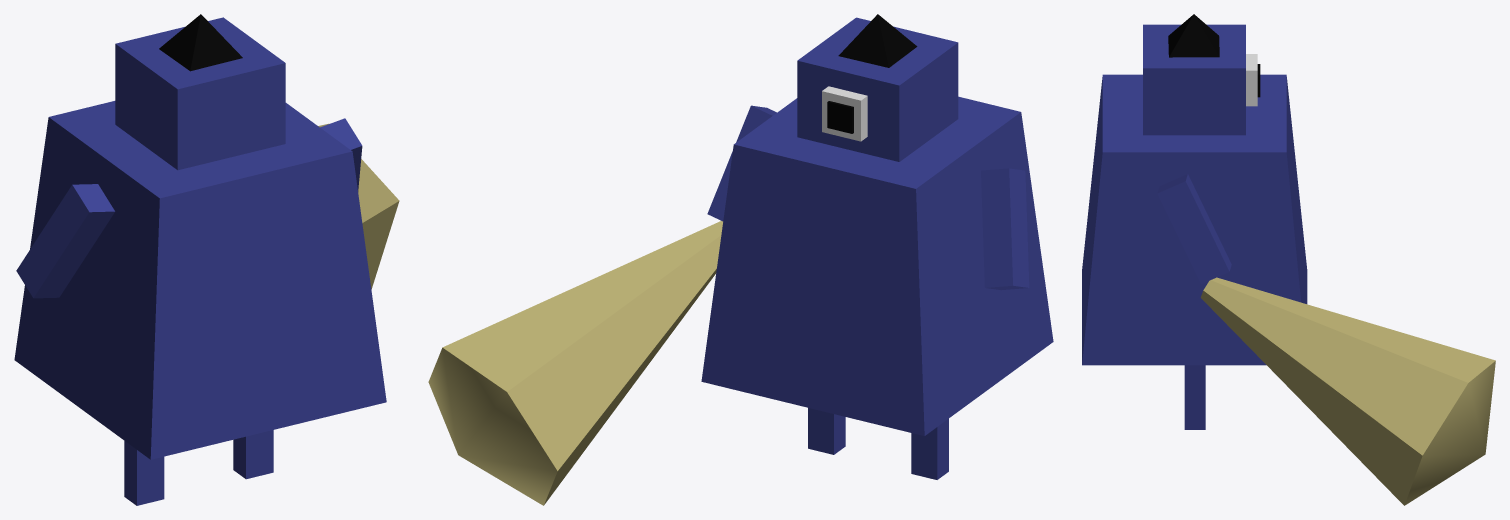
The model's file is Boss.fbx.
The picture shows the model from 3 angles, left to right: view 1: azimuth 30°, elevation 25°; view 2: azimuth 150°, elevation 25°; view 3: azimuth 270°, elevation 25°; orthographic projection. The views are drawn at different scales.
Visible parts, largest first — view 1: polySurface2; view 2: polySurface2; view 3: polySurface2.
Part boxes in pixels (<box>): polySurface2: <box>14,14,399,505</box>; polySurface2: <box>428,14,1053,505</box>; polySurface2: <box>1082,14,1495,505</box>.
Size of the model in its own units: 4.64 by 4.17 by 4.02.
